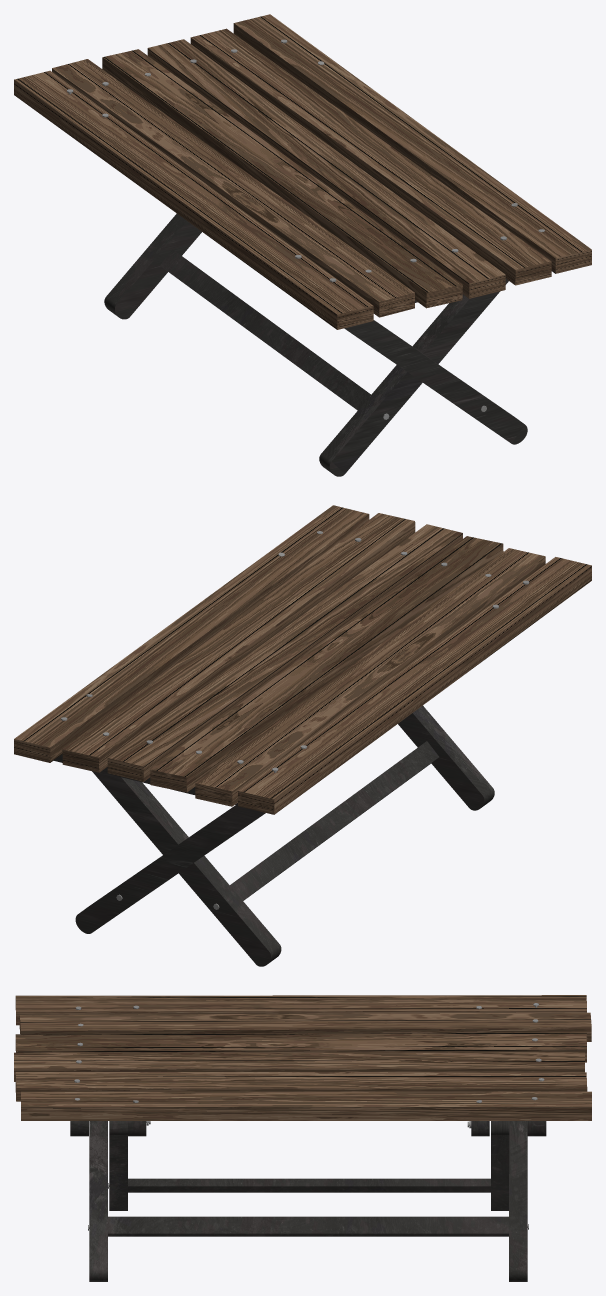
File: LongWoodenTable.glb
3 views of the same model, one above another, from view 1: azimuth 30°, elevation 25°; view 2: azimuth 150°, elevation 25°; view 3: azimuth 270°, elevation 25° (orthographic). The views are drawn at different scales.
Parts seen in each view (by area): view 1: Cube, Cube.012; view 2: Cube, Cube.012; view 3: Cube, Cube.012, Cylinder.010.
Boxes of the visible parts, left/top/right/bottom form: Cube: left=14, top=14, right=591, bottom=329; Cube.012: left=104, top=213, right=527, bottom=476; Cube: left=14, top=505, right=591, bottom=814; Cube.012: left=53, top=705, right=494, bottom=966; Cube: left=14, top=995, right=591, bottom=1120; Cube.012: left=70, top=1121, right=546, bottom=1281; Cylinder.010: left=74, top=1003, right=544, bottom=1230.
Bounding box in the file's own units: 1.82 × 1.46 × 3.96.
Materials: 3 (3 with a texture image).
